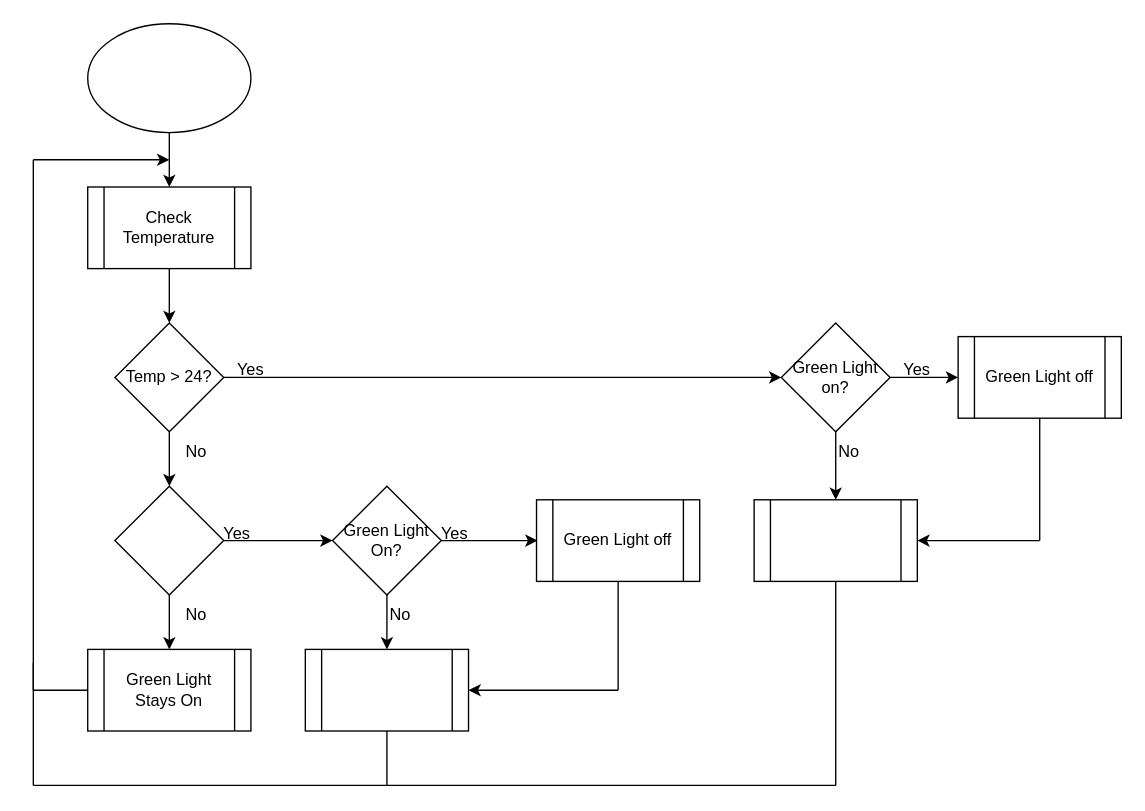
This 1145x811 diagram has some shape labels left out. The shapes that lost their labels are listed below. From the top down, each one's box as (x1, y1, x2, y2) in pixels, then its label:
(86, 22, 251, 133): Start
(114, 485, 224, 595): Temp < 18?
(753, 498, 917, 581): Red Light Flashes
(304, 648, 469, 731): Amber Light Flashes
